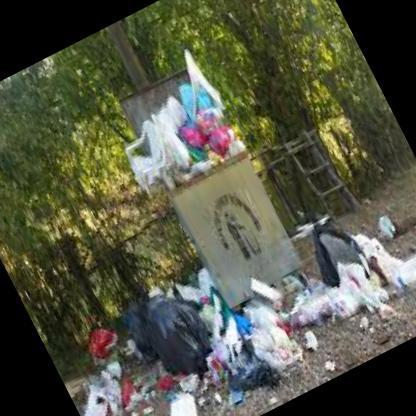Garbage: (98, 56, 243, 202), (132, 267, 254, 401), (301, 203, 415, 334), (224, 266, 344, 382)
